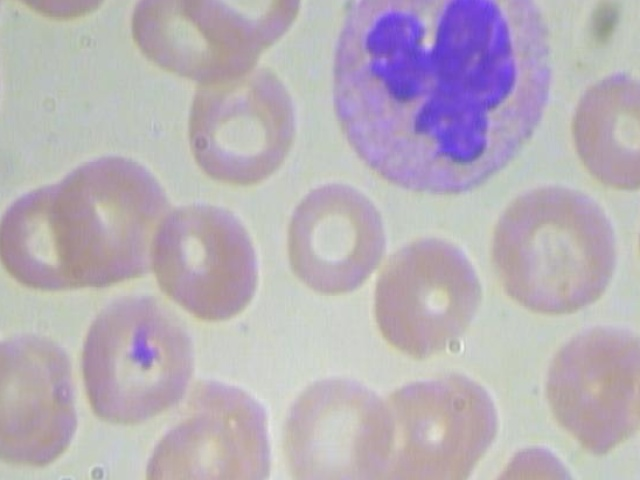RBC: (479, 179, 622, 324), (170, 46, 313, 191), (148, 183, 271, 321), (62, 144, 185, 282), (78, 291, 201, 429), (273, 359, 396, 480), (536, 315, 640, 453), (376, 231, 481, 356), (281, 176, 386, 300), (0, 324, 80, 462), (140, 400, 263, 480), (567, 65, 640, 190), (180, 0, 303, 61)
WBC: (313, 0, 567, 201)
